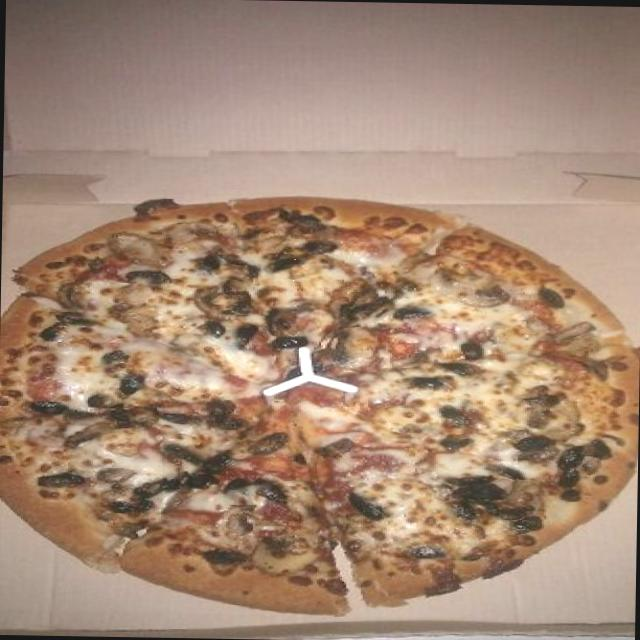Olive: (433, 472, 528, 528), (161, 442, 237, 504), (258, 232, 344, 284), (267, 328, 315, 371), (345, 490, 392, 528), (225, 314, 251, 360), (254, 474, 286, 511), (270, 302, 292, 344)
pizza: (4, 196, 636, 614)
